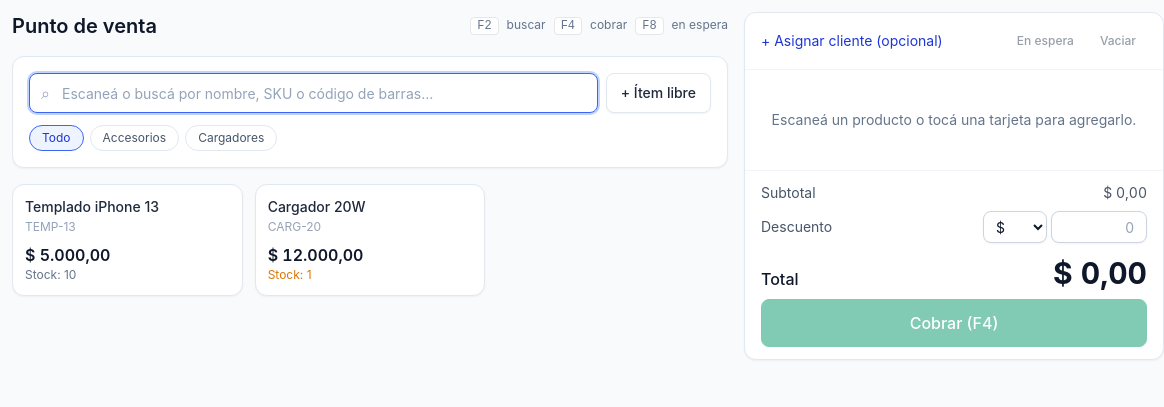
Test case: PosPage › applies a global percentage discount
The width and height of the screenshot is (1164, 407).
Click the button "Cargador 20W CARG-20 $ 12.000,00 Stock: 1": (370, 240) 255,184 -> 485,296
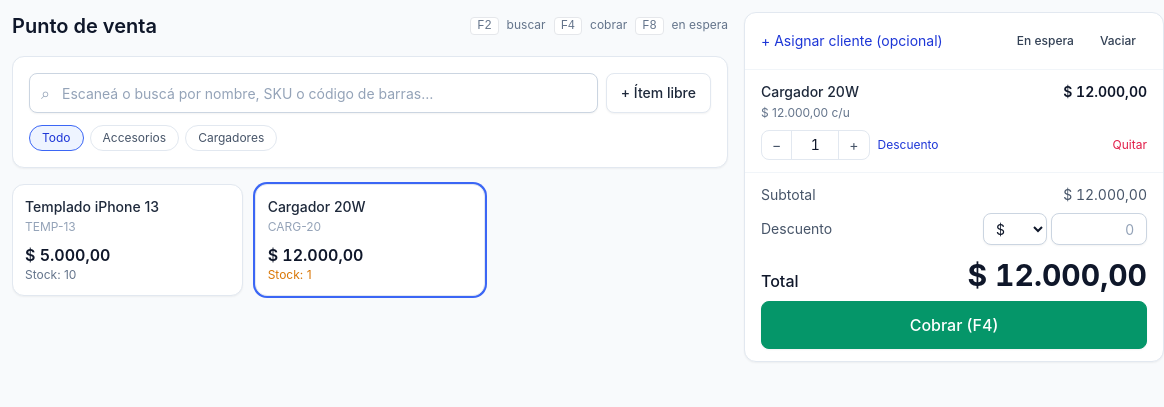
Select "%" in the dropdown named "Tipo de descuento": (1015, 229) 983,213 -> 1047,245
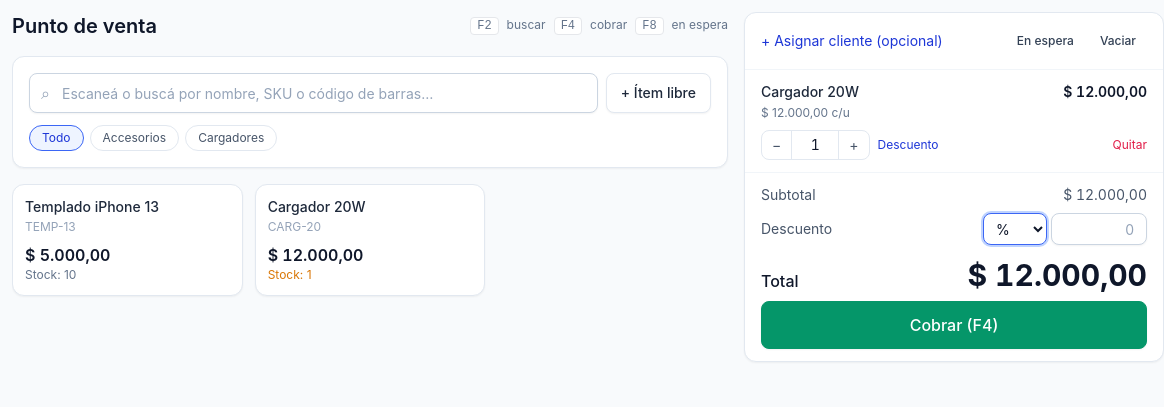
In the field named "Descuento": (1099, 229) 1051,213 -> 1147,245, type "10"
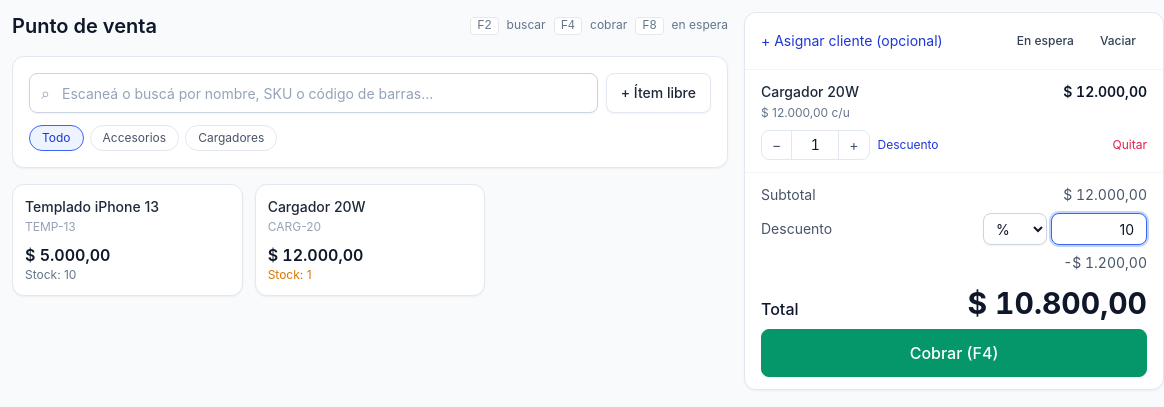
expect the text "$ 10.800,00" is shown: met, box 967,285 -> 1147,321
